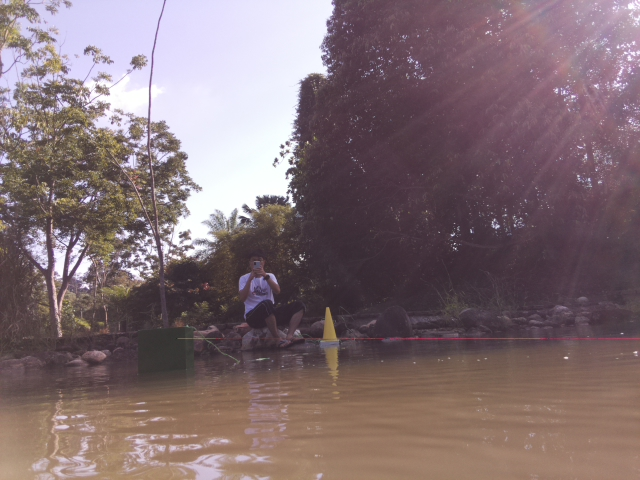checkpoint: (317, 305, 342, 350)
obstacle: (135, 327, 196, 374)
